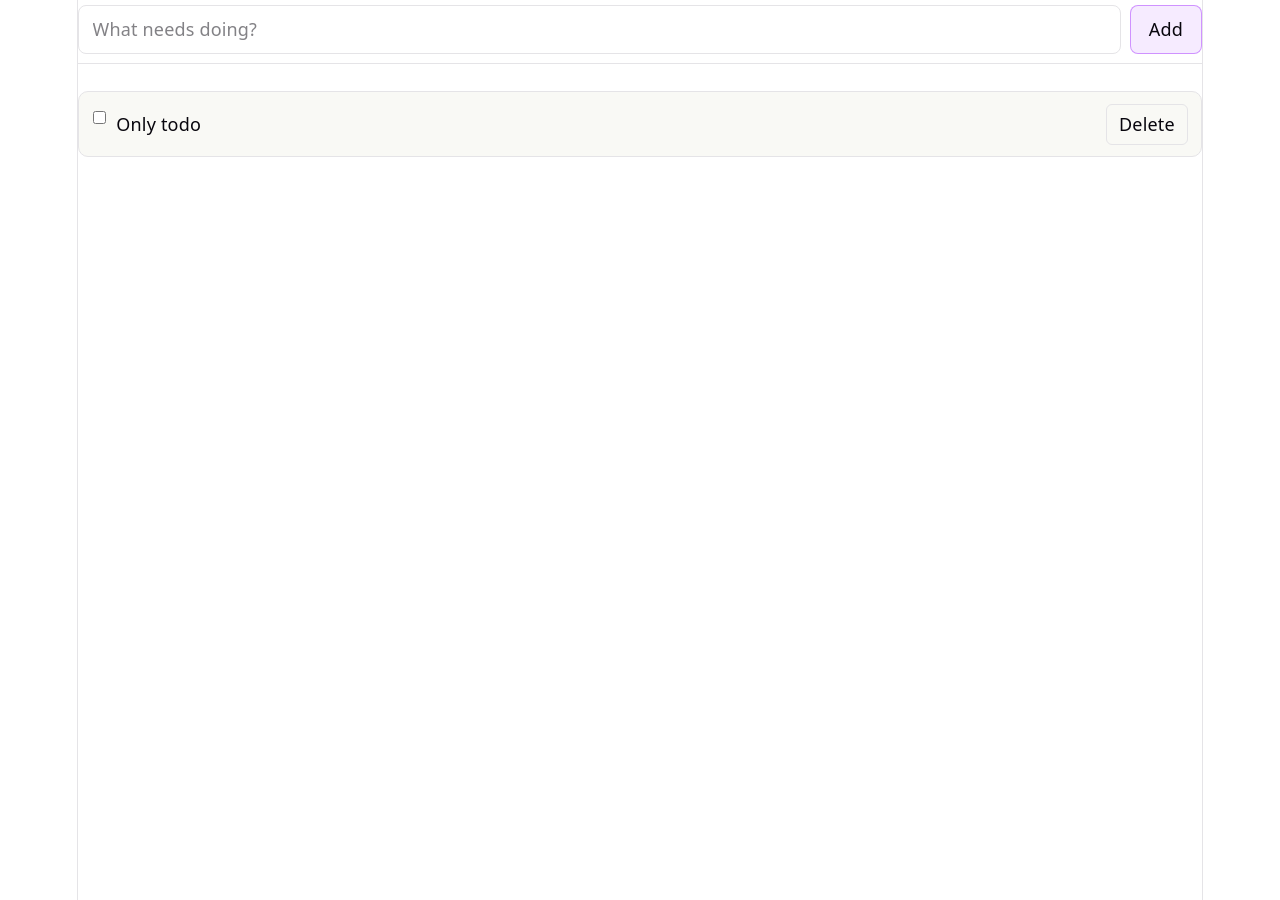
Test: TodoApp › MSW › IS-2.4.a: DELETE last item → empty state restores
Expected: the text "Only todo" is shown, x1=116 y1=111 x2=201 y2=137
Step 1. Click the button with aria-label "Delete Only todo" → (1147, 124), box x1=1106 y1=104 x2=1188 y2=145
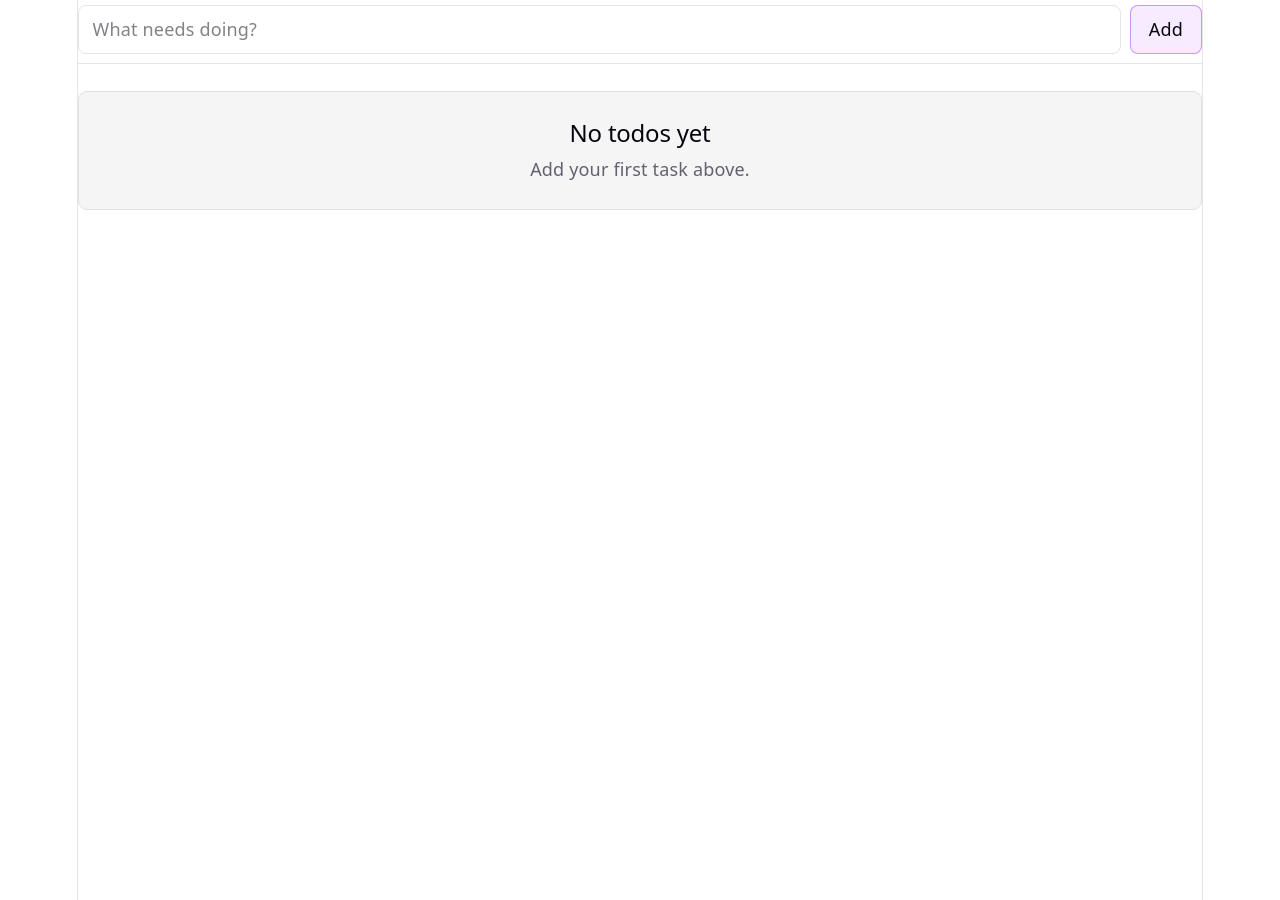
Result: the element with test id "todo-empty" is shown at x1=78 y1=91 x2=1202 y2=210
Result: the text "Only todo" is gone
